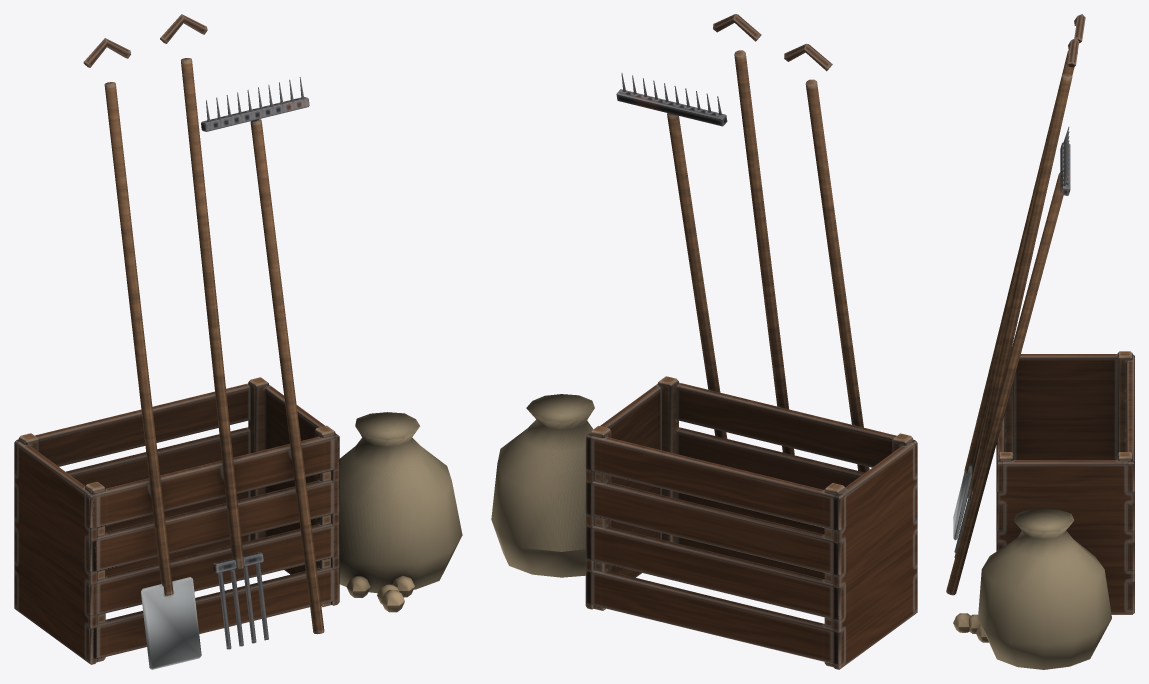
Rendered from GardenToolsLean.fbx.
3 renders of one model, left to right at view 1: azimuth 30°, elevation 25°; view 2: azimuth 150°, elevation 25°; view 3: azimuth 270°, elevation 25°, orthographic. The views are drawn at different scales.
Visible parts, largest first — view 1: GardenToolsLean; view 2: GardenToolsLean; view 3: GardenToolsLean.
Part boxes in pixels (box(x1,y1,x2,y2)): GardenToolsLean: box(14, 14, 462, 669); GardenToolsLean: box(491, 14, 917, 669); GardenToolsLean: box(946, 14, 1134, 669).
Bounding box in the file's own units: 368 × 539 × 174.
